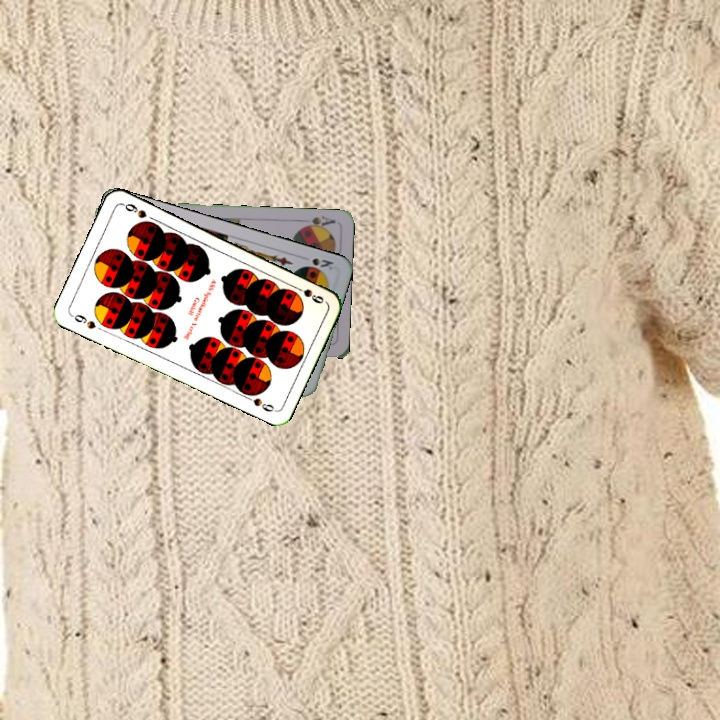S9: (289, 282, 326, 306), (67, 310, 98, 332)
SA: (297, 212, 338, 232)
SK: (297, 252, 336, 272)
